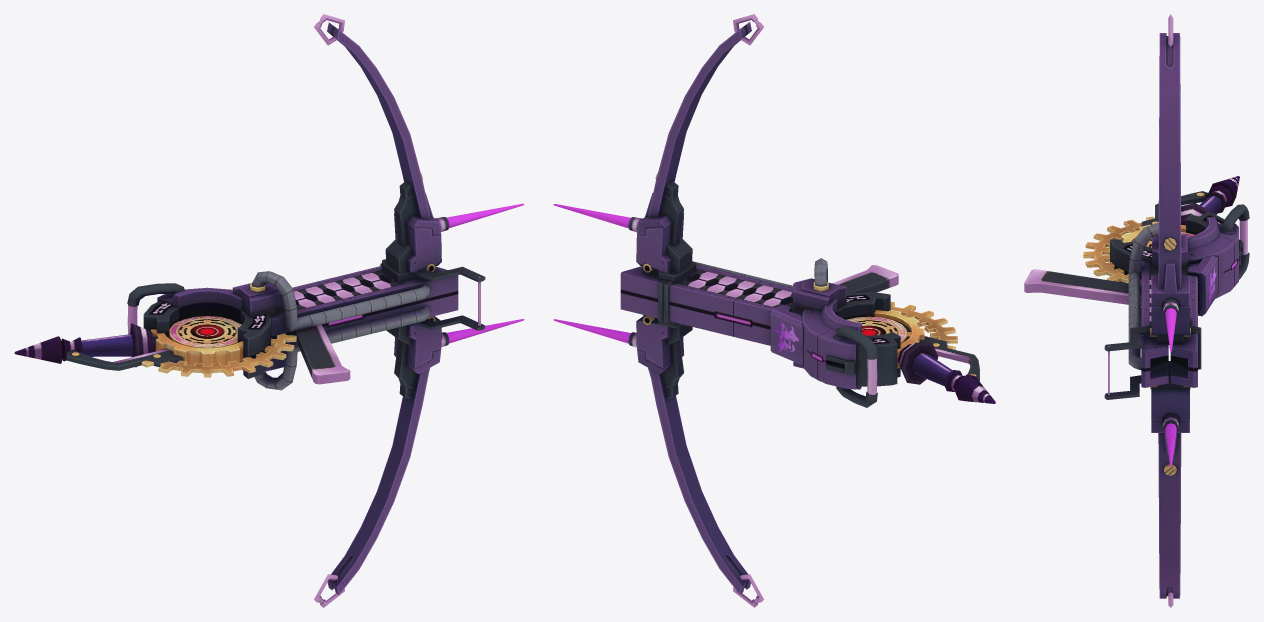
The model's file is bow_m_ooparts_bow_ooparts_bow_dark_s.glb.
The picture shows the model from 3 angles, left to right: view 1: azimuth 30°, elevation 25°; view 2: azimuth 150°, elevation 25°; view 3: azimuth 270°, elevation 25°; orthographic projection.
Size of the model in its own units: 0.8442 by 1.01 by 0.3458.
Materials: 1 (1 with a texture image).
